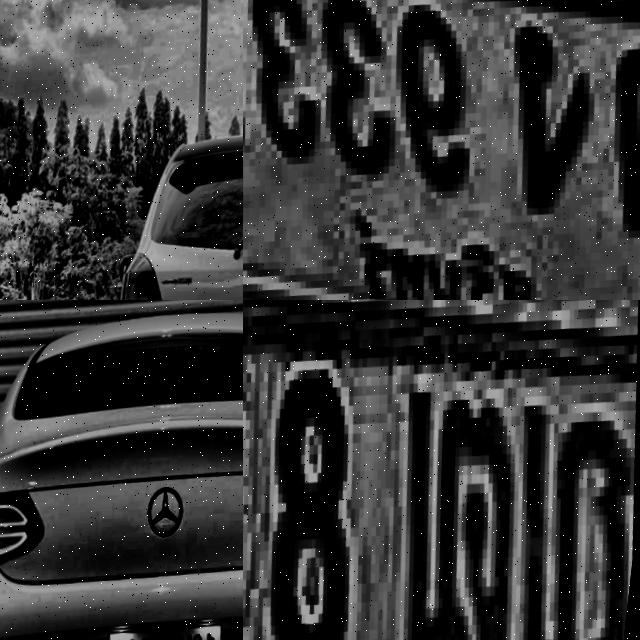license-plate: (243, 300, 640, 640), (243, 0, 640, 300), (103, 610, 242, 640)
